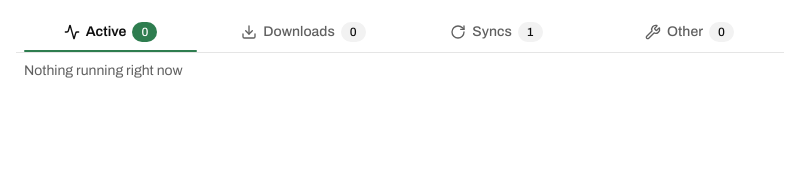
Test: TasksView › tells the user nothing is running on an empty Active tab while other tabs still list tasks
This screenshot has width=801, height=172.
Check: the text "Nothing running right now" is shown, box [24,63,183,78]
Click the tab "Syncs 1" at x=496, y=32, box [402,12,591,52]
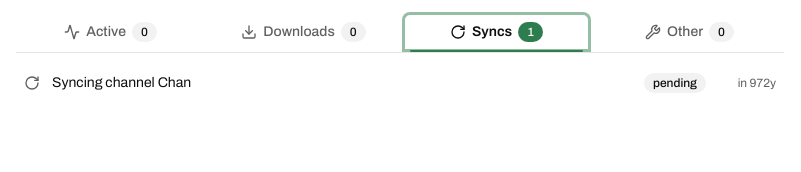
Check: the text "Syncing channel Chan" is shown, box [52,75,191,90]
Check: the text "Nothing running right now" is gone
